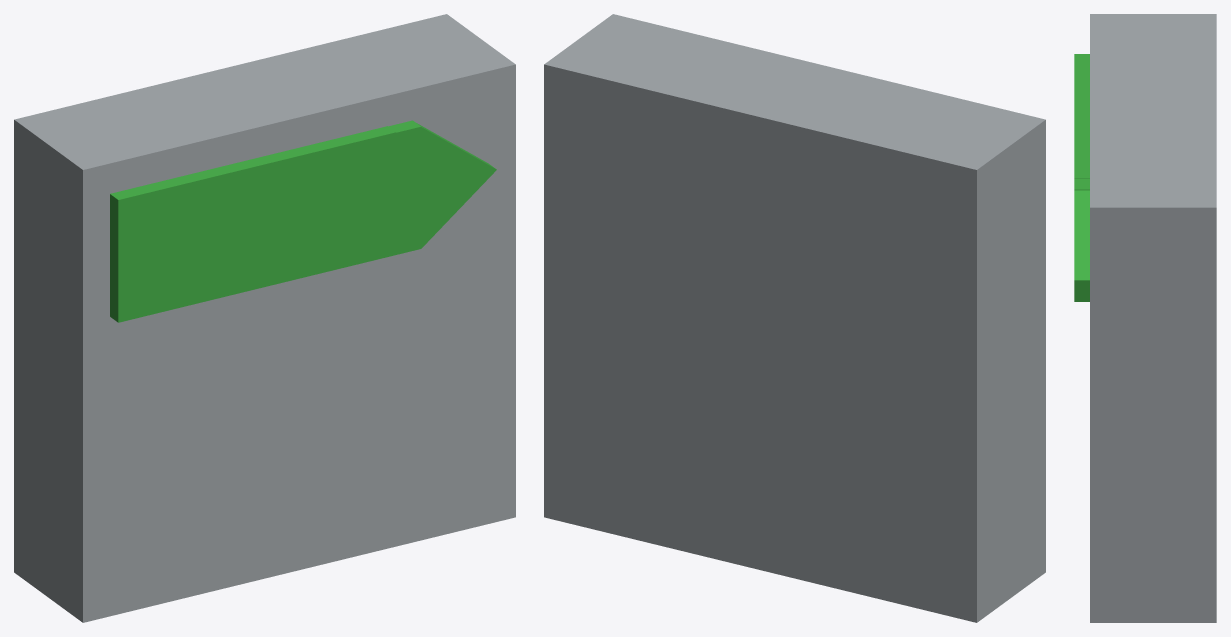
The model's file is tinker.obj.
3 renders of one model, left to right at view 1: azimuth 30°, elevation 25°; view 2: azimuth 150°, elevation 25°; view 3: azimuth 270°, elevation 25°, orthographic. The views are drawn at different scales.
Parts seen in each view (by area): view 1: group_0_10988977, group_0_4634441; view 2: group_0_10988977; view 3: group_0_10988977, group_0_4634441.
Part boxes in pixels (x1=…): group_0_10988977: x1=14, y1=14, x2=515, y2=622; group_0_4634441: x1=110, y1=120, x2=496, y2=322; group_0_10988977: x1=544, y1=14, x2=1045, y2=622; group_0_10988977: x1=1090, y1=14, x2=1216, y2=622; group_0_4634441: x1=1074, y1=54, x2=1089, y2=301.
Size of the model in its own units: 1 by 1 by 0.31.
